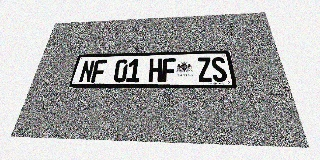0: (113, 59, 128, 83)
1: (126, 59, 141, 82)
F: (91, 60, 107, 83), (162, 58, 176, 82)
H: (148, 58, 162, 82)
N: (78, 60, 95, 83)
S: (211, 57, 228, 82)
Z: (197, 57, 213, 82)
